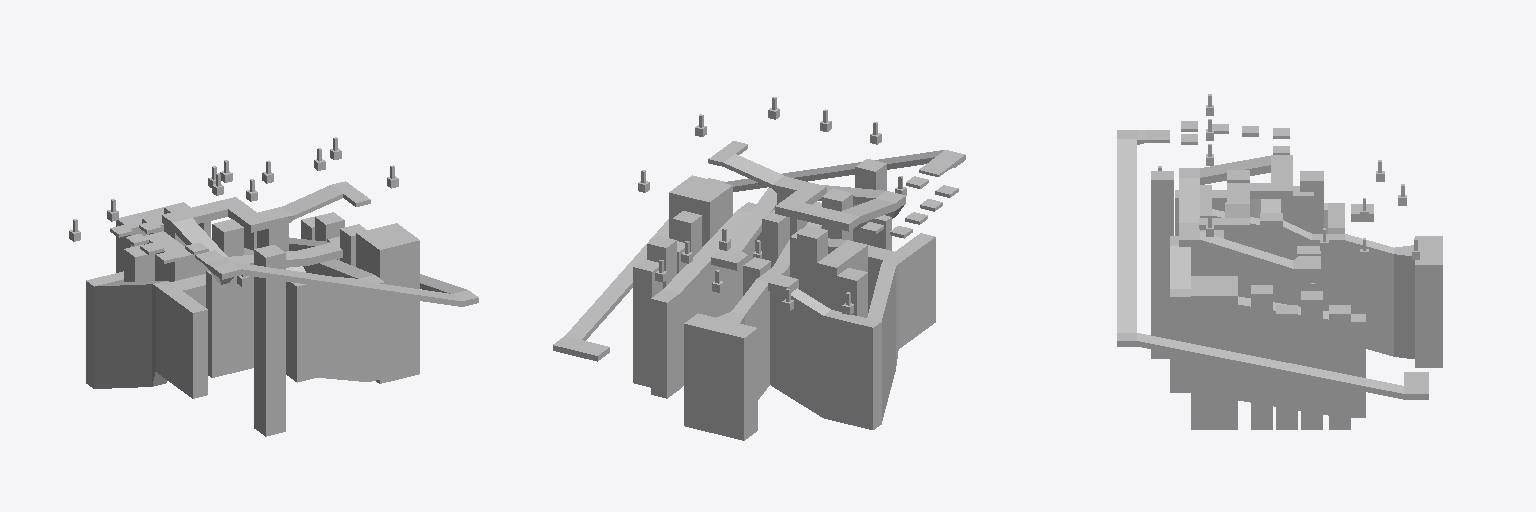
Rendered from flatlevel.obj.
The picture shows the model from 3 angles: view 1: azimuth 30°, elevation 25°; view 2: azimuth 150°, elevation 25°; view 3: azimuth 270°, elevation 25°; orthographic projection.
Size of the model in its own units: 25.2 by 21.42 by 25.27.